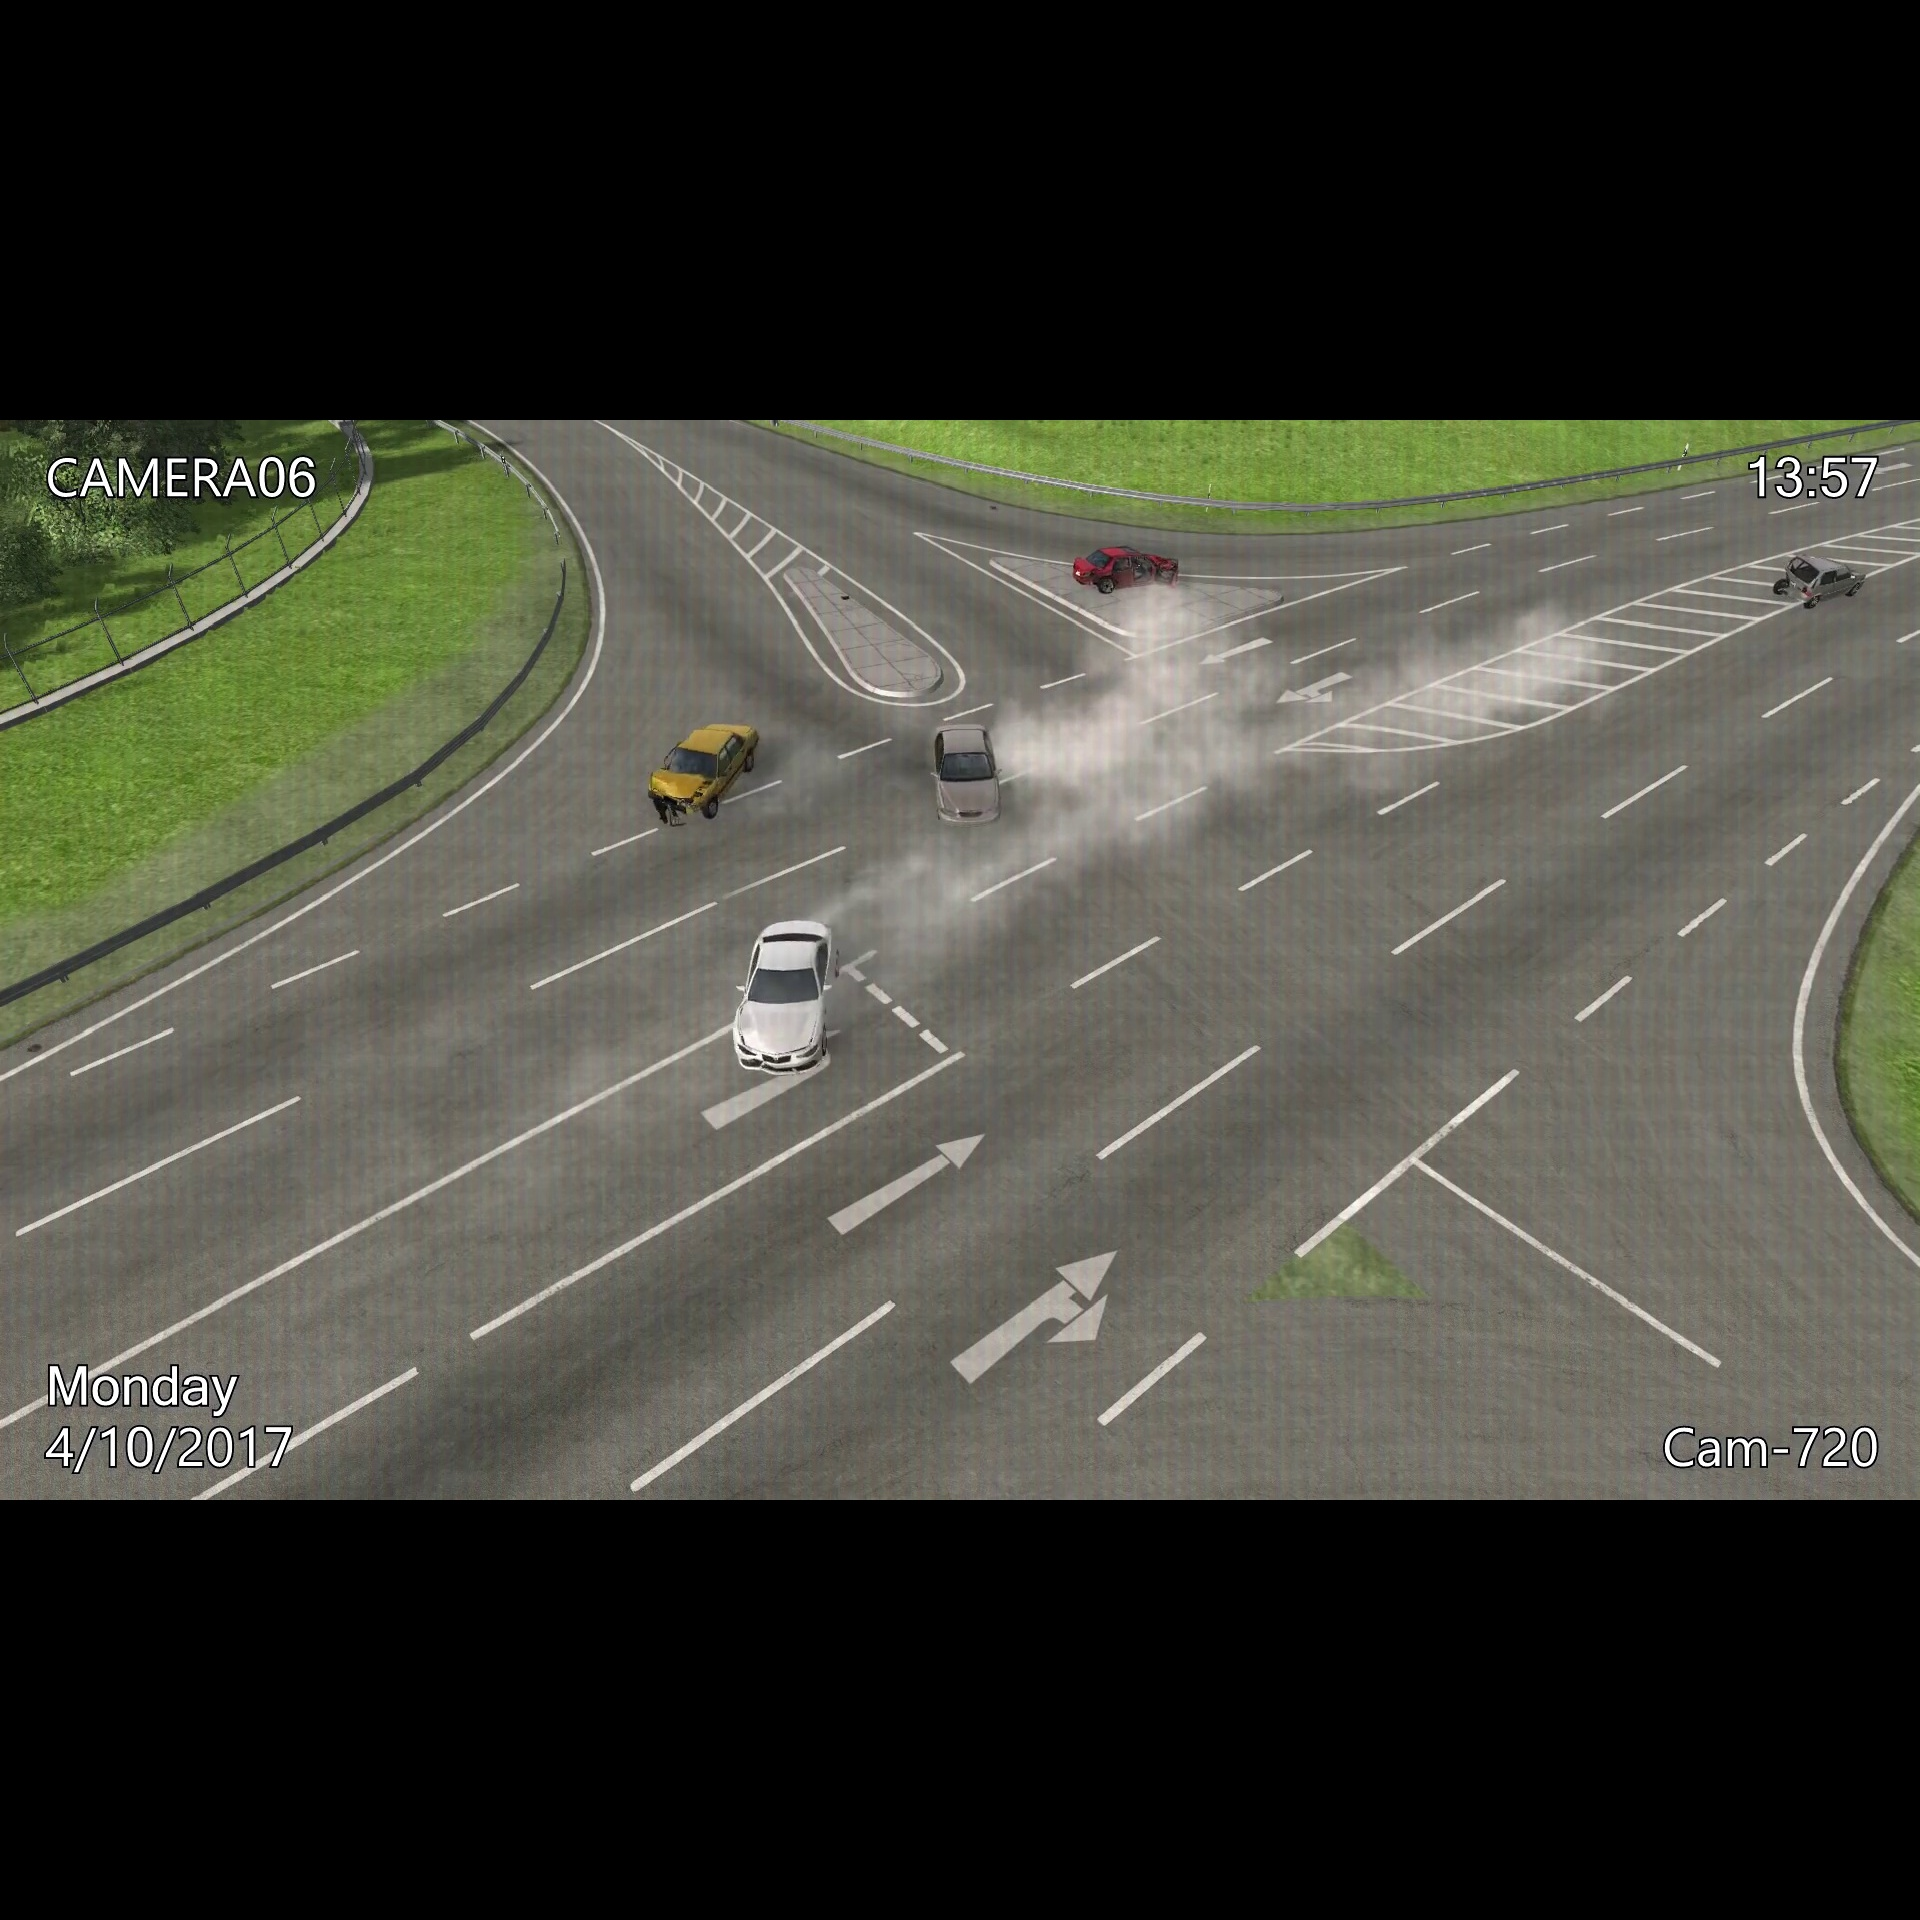vehicle: (731, 914, 842, 1081), (642, 716, 767, 828), (928, 717, 1004, 840), (1764, 549, 1867, 610), (1065, 542, 1182, 593)
